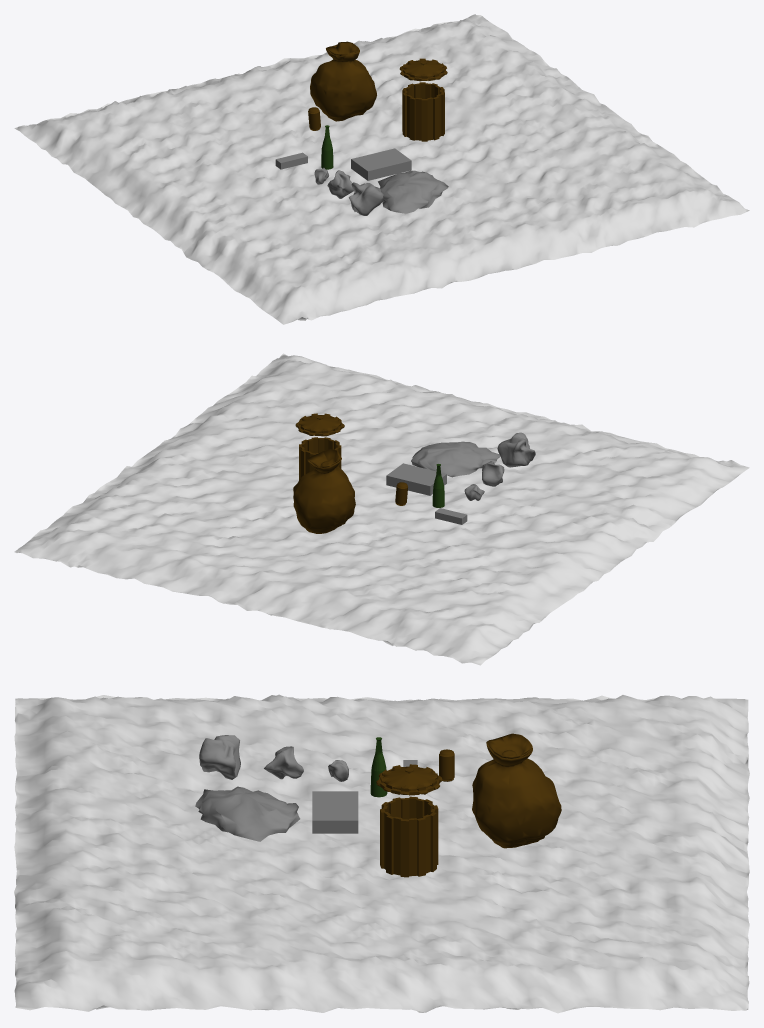
3 views of the same model, one above another, from view 1: azimuth 30°, elevation 25°; view 2: azimuth 150°, elevation 25°; view 3: azimuth 270°, elevation 25° (orthographic). The views are drawn at different scales.
Visible parts, largest first — view 1: Plane002, Sphere001, Cylinder001, Sphere002, Box001, Cylinder004, Sphere005; view 2: Plane002, Sphere001, Sphere002, Box001, Sphere005, Cylinder001, Cylinder004; view 3: Plane002, Sphere001, Cylinder001, Sphere002, Box001, Cylinder004, Sphere005, Sphere004, Cylinder006.
Part boxes in pixels (box(x1,y1,x2,y2)): Plane002: box(14, 14, 749, 324); Sphere001: box(310, 41, 376, 121); Cylinder001: box(402, 82, 444, 141); Sphere002: box(378, 170, 448, 213); Box001: box(351, 148, 411, 180); Cylinder004: box(399, 58, 447, 81); Sphere005: box(349, 182, 383, 215); Plane002: box(14, 353, 749, 665); Sphere001: box(293, 449, 355, 533); Sphere002: box(411, 441, 500, 477); Box001: box(386, 463, 446, 495); Sphere005: box(497, 432, 535, 467); Cylinder001: box(299, 437, 341, 480); Cylinder004: box(295, 413, 344, 436); Plane002: box(14, 694, 749, 1013); Sphere001: box(472, 733, 561, 848); Cylinder001: box(380, 796, 438, 877); Sphere002: box(195, 786, 300, 841); Box001: box(312, 791, 358, 833); Cylinder004: box(376, 764, 442, 795); Sphere005: box(199, 735, 240, 779); Sphere004: box(264, 746, 303, 779); Cylinder006: box(370, 737, 387, 797).
Bounding box in the file's own units: 201 × 37.2 × 201.
